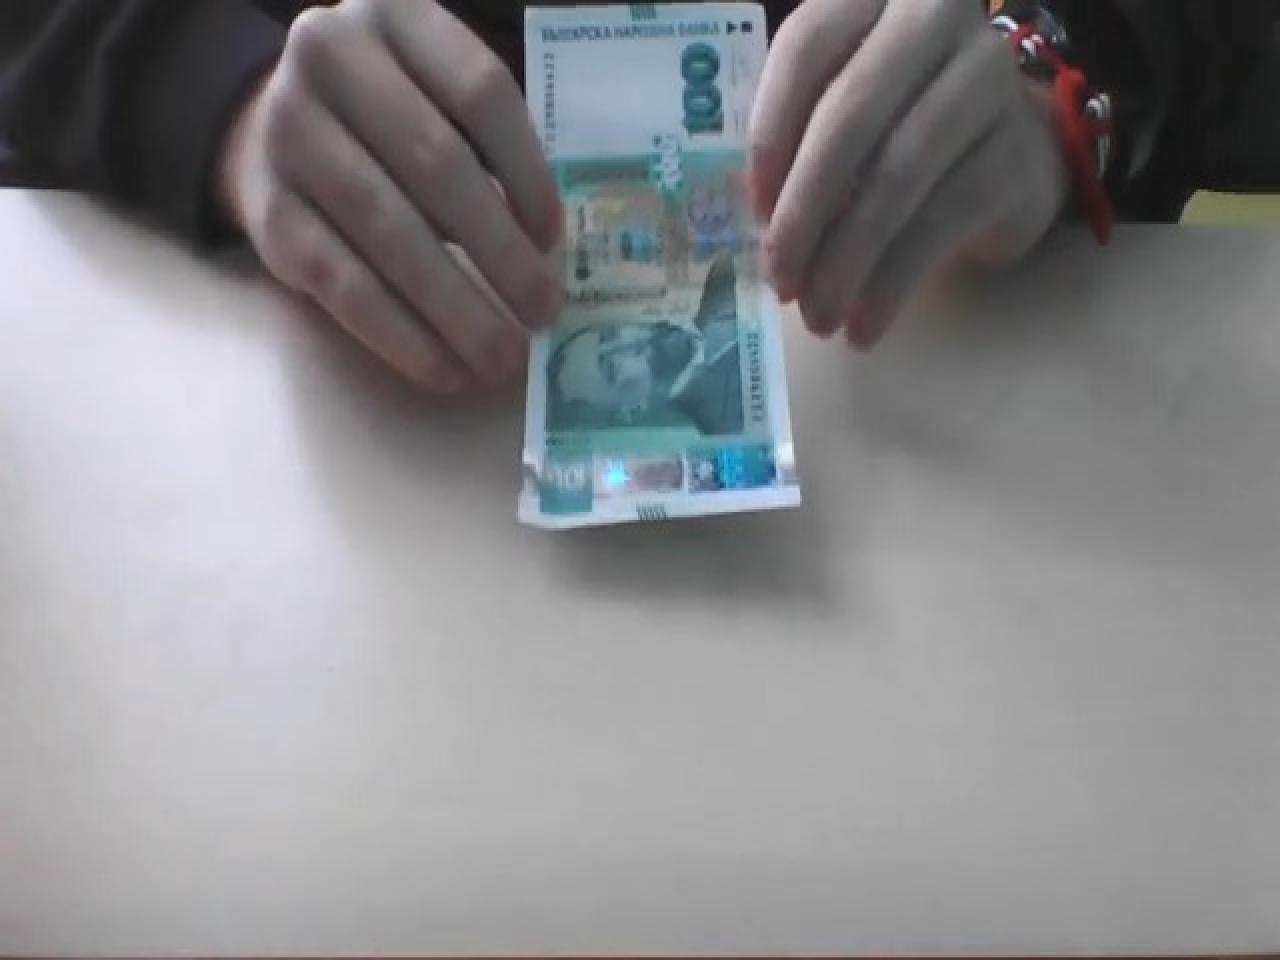100leva: (514, 0, 804, 536)
